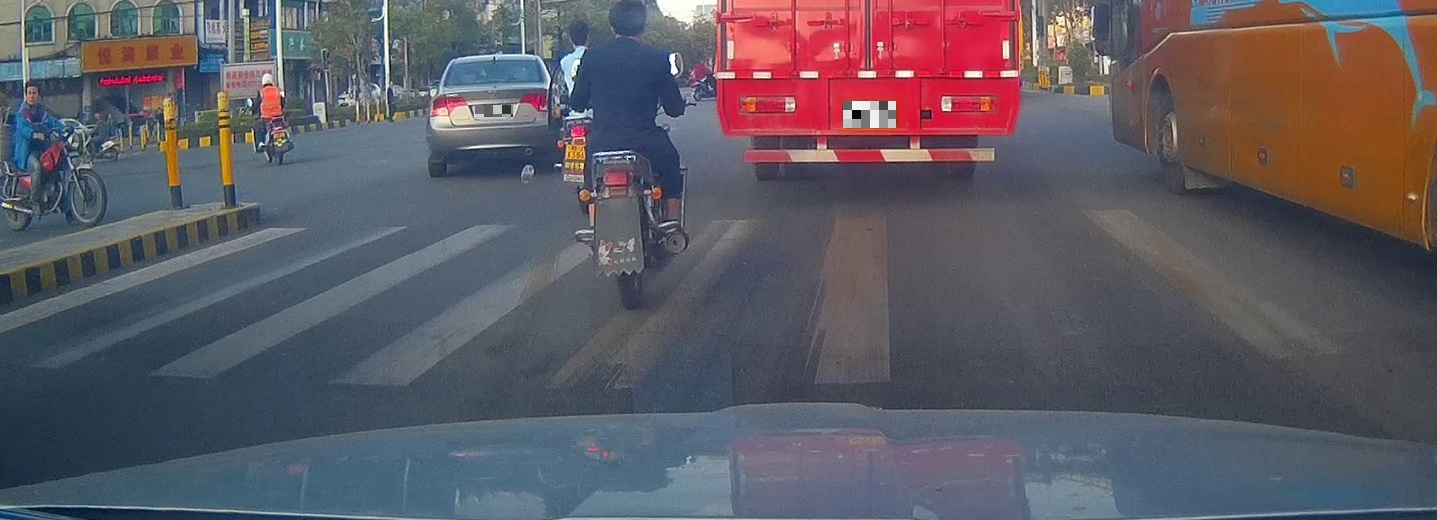L_light: (427, 95, 469, 116)
R_light: (519, 93, 554, 113)
T_light: (487, 56, 504, 63)
day-left: (427, 54, 564, 178)
plate_1: (475, 105, 513, 117)
plate_2: (843, 101, 896, 128)
